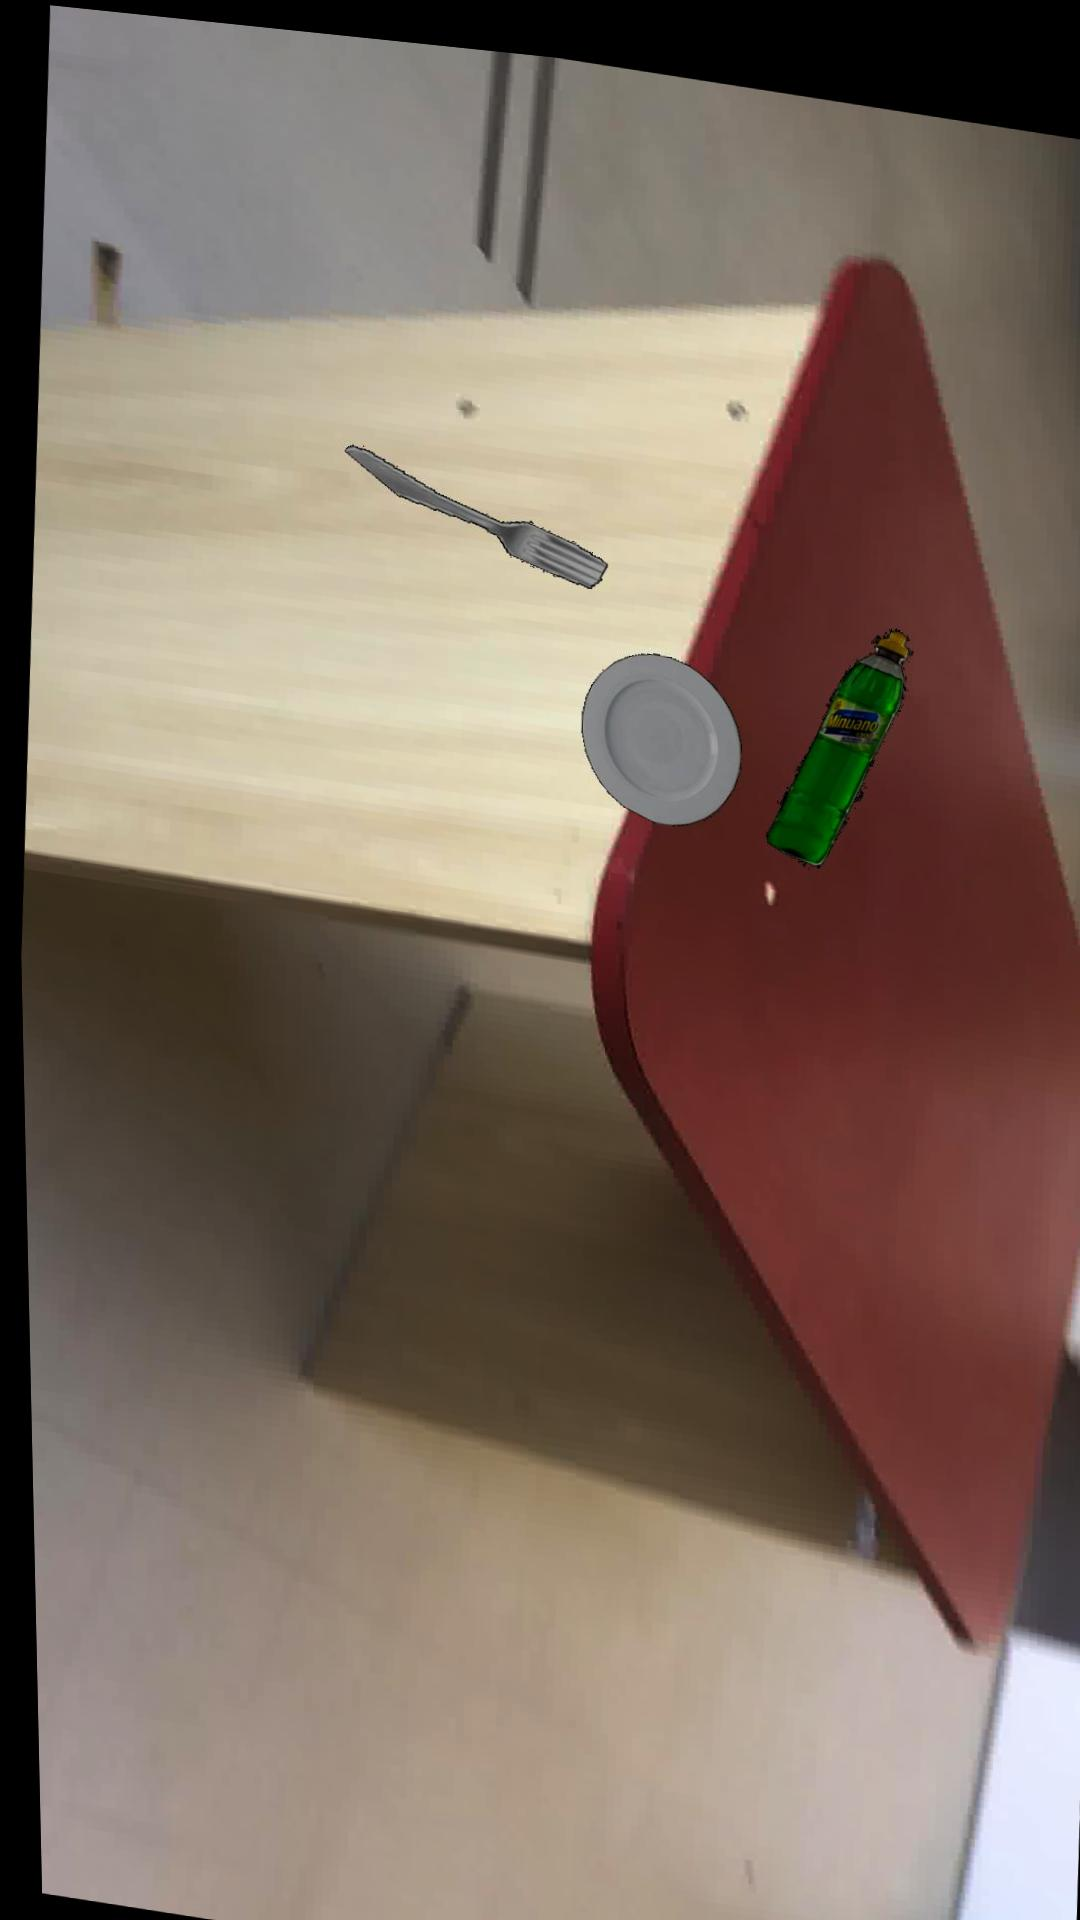cleaner: (761, 611, 905, 852)
fork: (342, 438, 603, 578)
plate: (576, 641, 737, 812)
